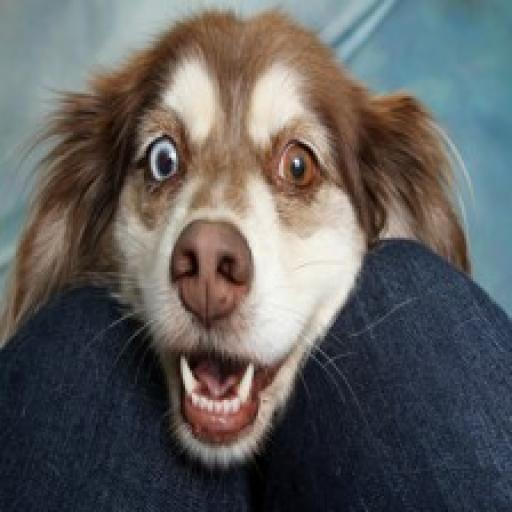dog: (2, 4, 512, 478)
